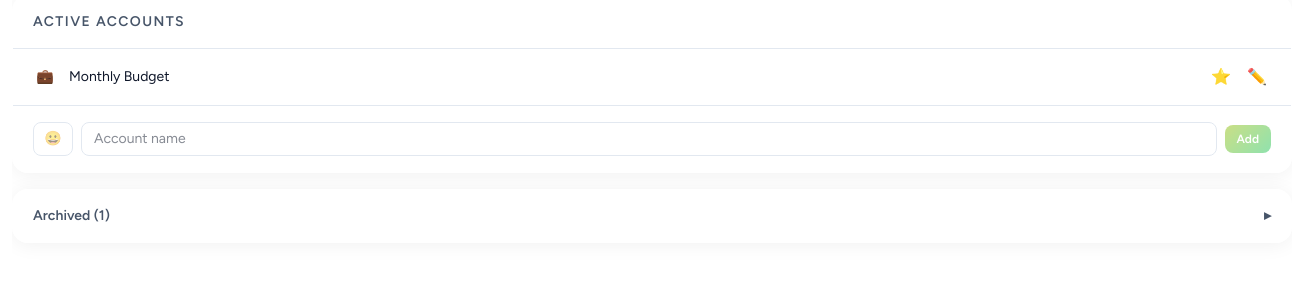
Test: AccountsTab — active accounts rendering › shows archived section with account name when archivedAccounts has items
expect the text "Archived (1)" is shown: met, box [33, 206, 110, 226]
Click the button "Archived (1) ▸".
click(66, 216)  # box [13, 190, 1291, 242]
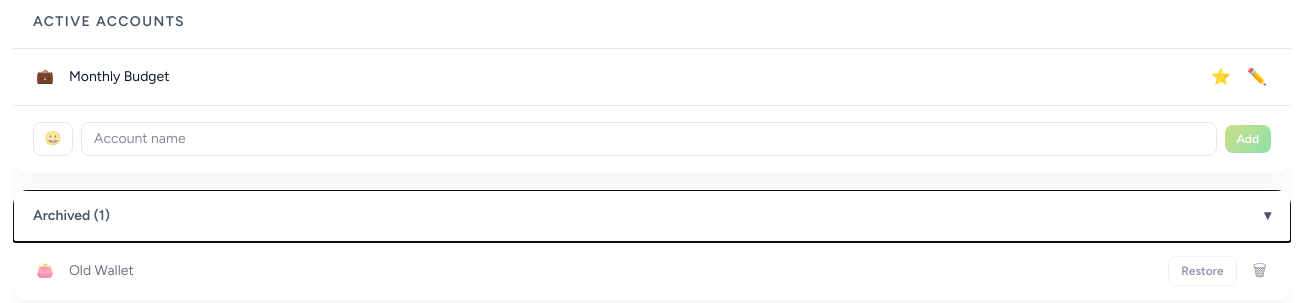
expect the text "Old Wallet" is shown: met, box [69, 262, 134, 279]
